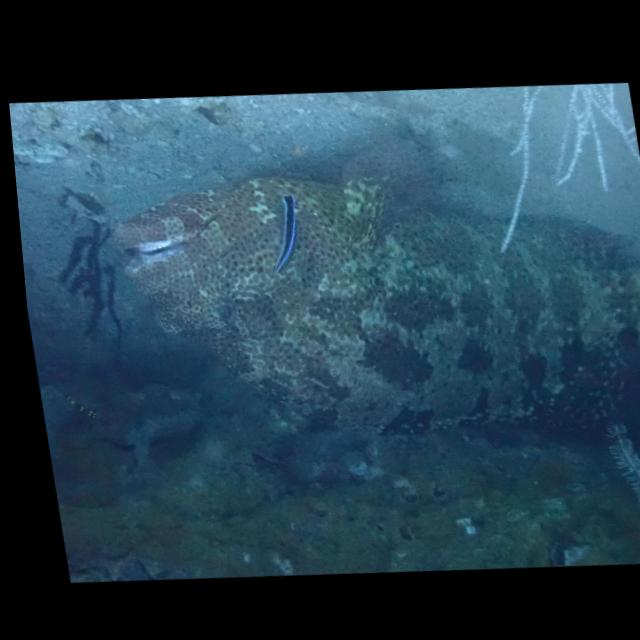Groupers: (99, 137, 640, 465)
